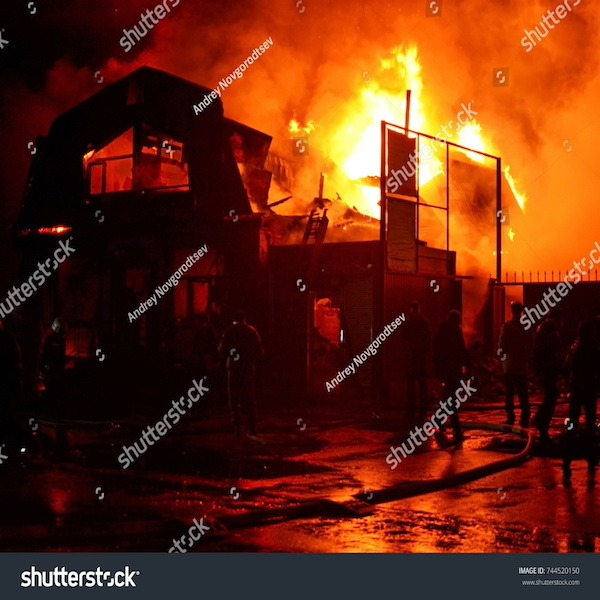fire: (319, 69, 380, 215), (367, 51, 431, 128), (456, 126, 498, 166), (419, 139, 443, 189)
